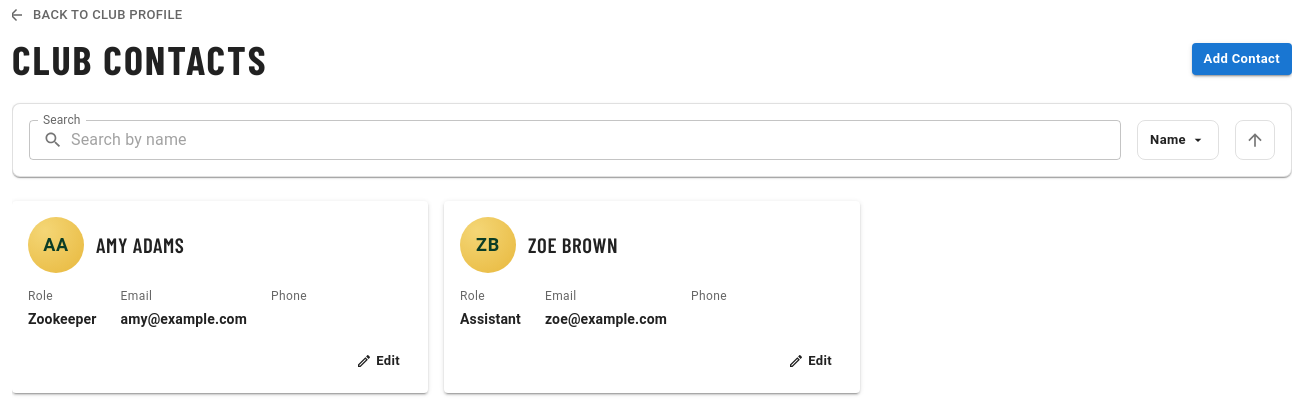
Test: ClubContactList › clicking the sort icon reverses the card order (sorting by the default Name field), and flips its own accessible name
The width and height of the screenshot is (1304, 413).
Check: the link "Amy Adams" is shown, box [96,233,184,257]
Check: the headings read "Amy Adams", "Zoe Brown", in this order, box [96,233,184,257]; [528,233,618,257]
Click the button named "Name, Z to A" at (1255, 140), box [1235,120,1275,160]
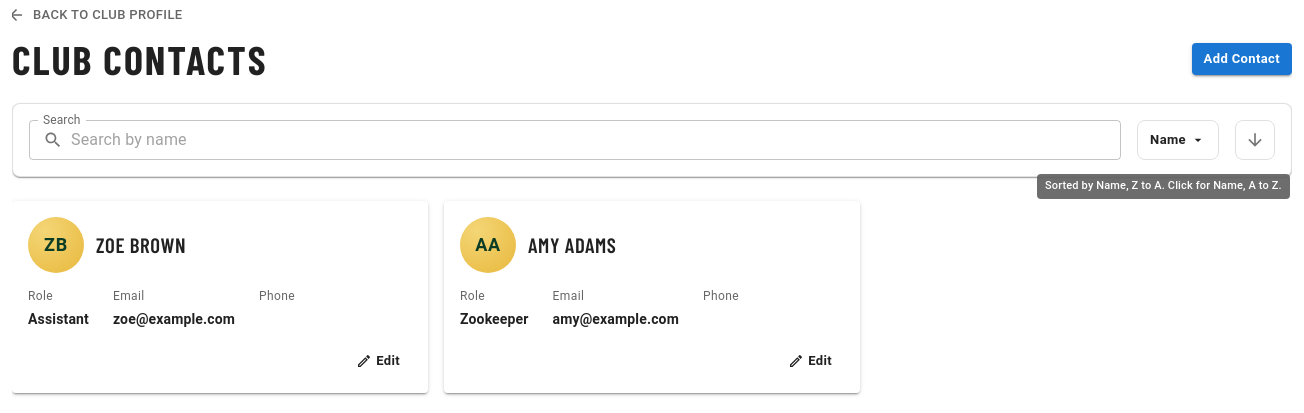
Check: the headings read "Zoe Brown", "Amy Adams", in this order, box [96,233,186,257]; [528,233,616,257]
